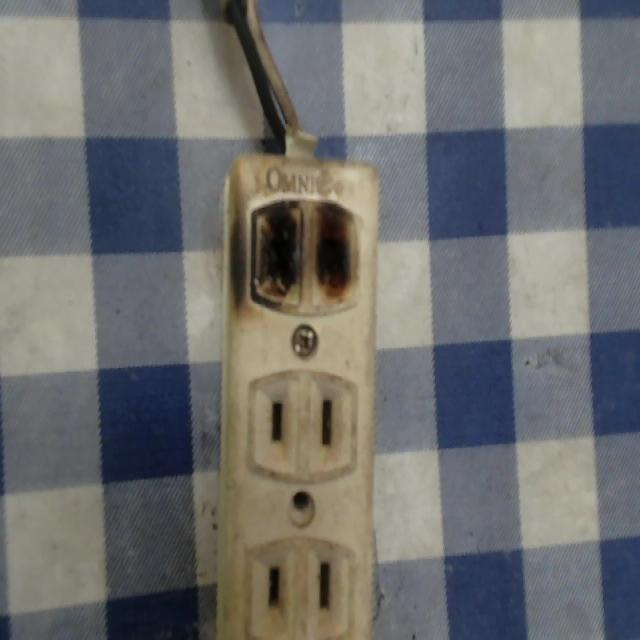-: (233, 189, 370, 308)
